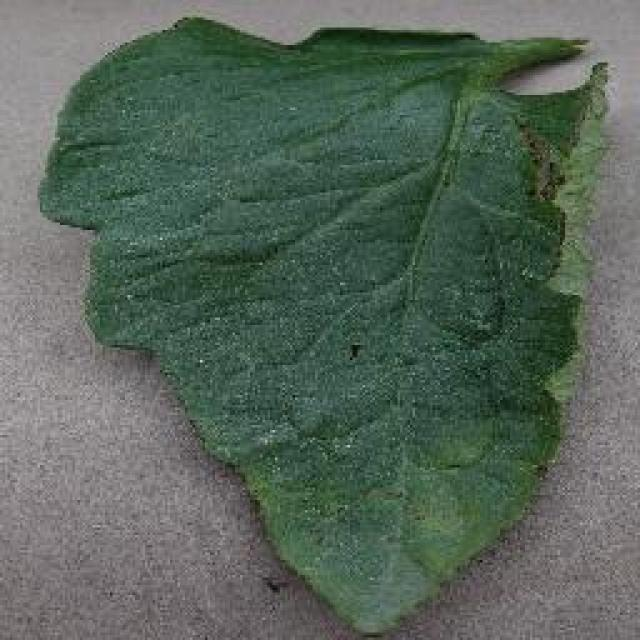Tomato___Bacterial_spot: (31, 15, 613, 636)
